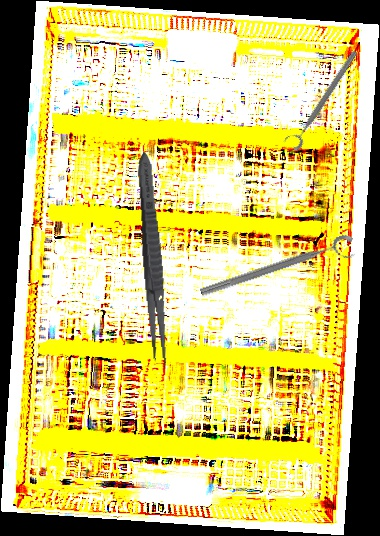Dressing Forceps: (132, 151, 174, 371)
Fixation Ring: (198, 232, 359, 309), (282, 45, 361, 152)
